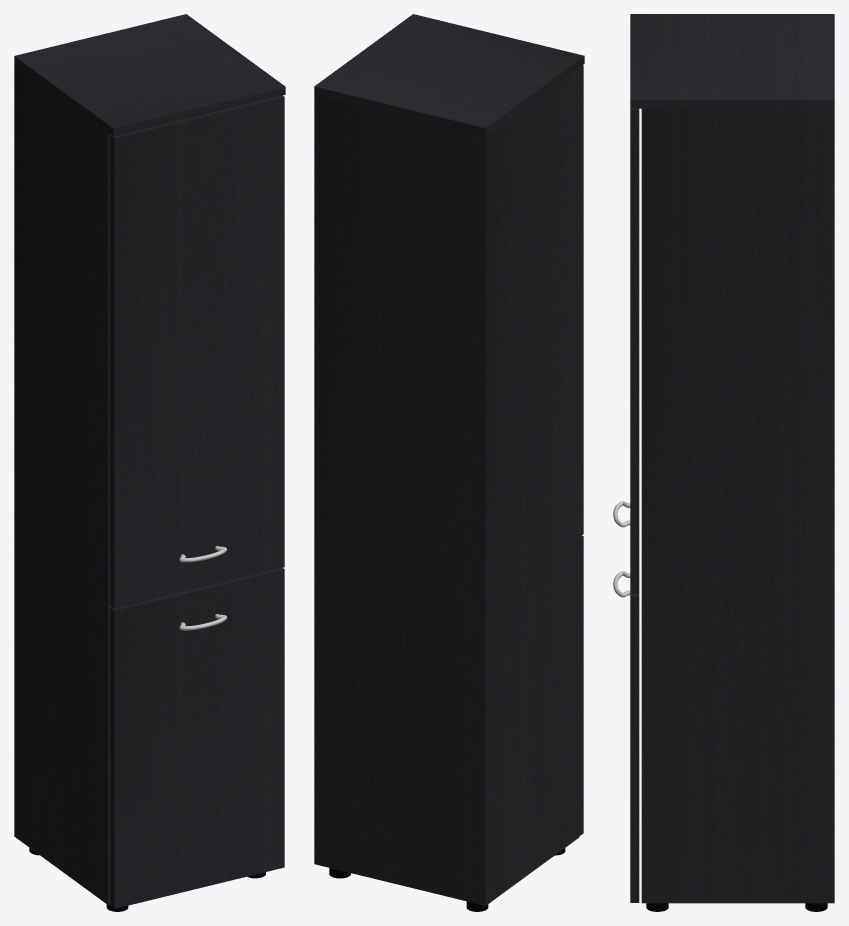
The model's file is sweethome3d-lucapresidente-bookcase-45x198.glb.
3 renders of one model, left to right at view 1: azimuth 30°, elevation 25°; view 2: azimuth 150°, elevation 25°; view 3: azimuth 270°, elevation 25°, orthographic. The views are drawn at different scales.
Parts seen in each view (by area): view 1: Box54_9, Box52_6, Box53_7, Box55_10; view 2: Box52_6, Box55_10, Box54_9, Box53_7; view 3: Box52_6, Box55_10, Box54_9, Box53_7.
Boxes of the visible parts, x1=… form: Box54_9: x1=110, y1=95, x2=284, y2=608; Box52_6: x1=14, y1=64, x2=111, y2=904; Box53_7: x1=110, y1=568, x2=284, y2=908; Box55_10: x1=14, y1=14, x2=285, y2=136; Box52_6: x1=314, y1=68, x2=579, y2=905; Box55_10: x1=314, y1=14, x2=584, y2=136; Box54_9: x1=579, y1=65, x2=583, y2=536; Box53_7: x1=579, y1=536, x2=583, y2=836; Box52_6: x1=641, y1=108, x2=834, y2=903; Box55_10: x1=630, y1=14, x2=834, y2=108; Box54_9: x1=630, y1=108, x2=639, y2=593; Box53_7: x1=630, y1=594, x2=639, y2=902.
Size of the model in its own units: 45 by 198 by 48.75.
Materials: 3 (1 with a texture image).
